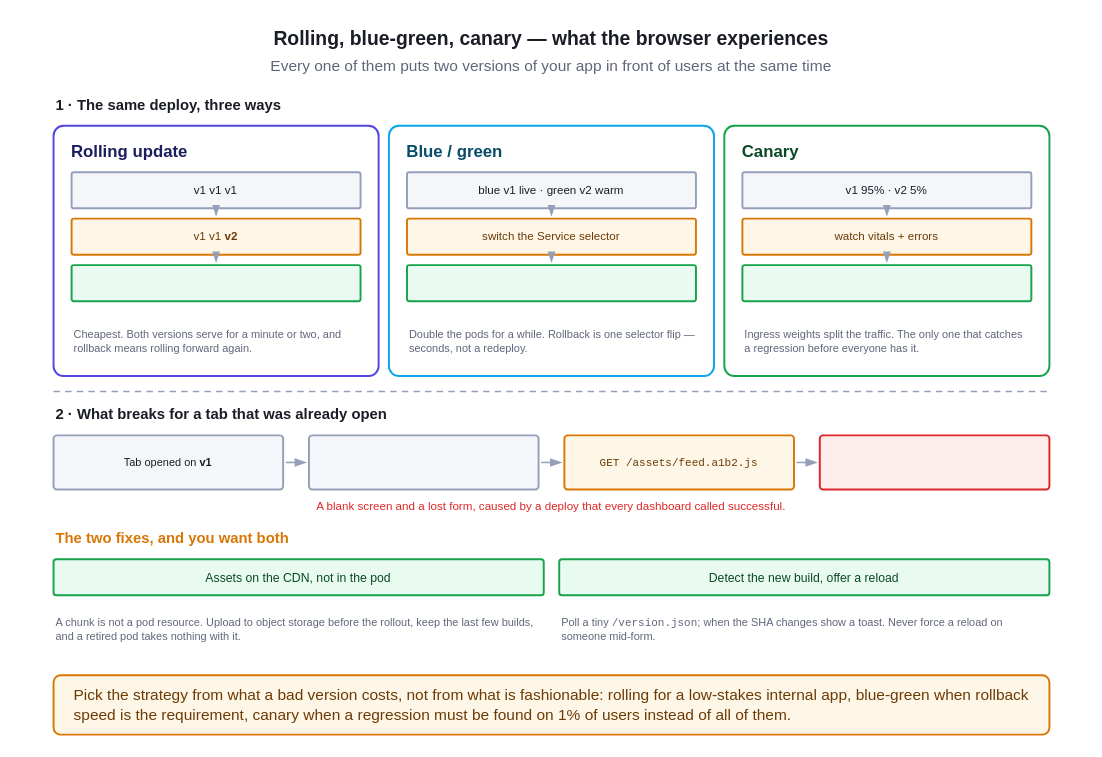
Some shapes in this 1102 by 757 pixel diagram are drawn without their labels. Here are the shapes that lost their labels. From the top down, the centre of each, then its label:
At [215,283]: "v2 v2 v2".
At [550,283]: "green v2 live · blue v1 idle".
At [886,283]: "ramp 25% → 50% → 100%".
At [423,462]: "User clicks a lazy route".
At [934,462]: "Pods are v2 — that hash is gone → 404".
